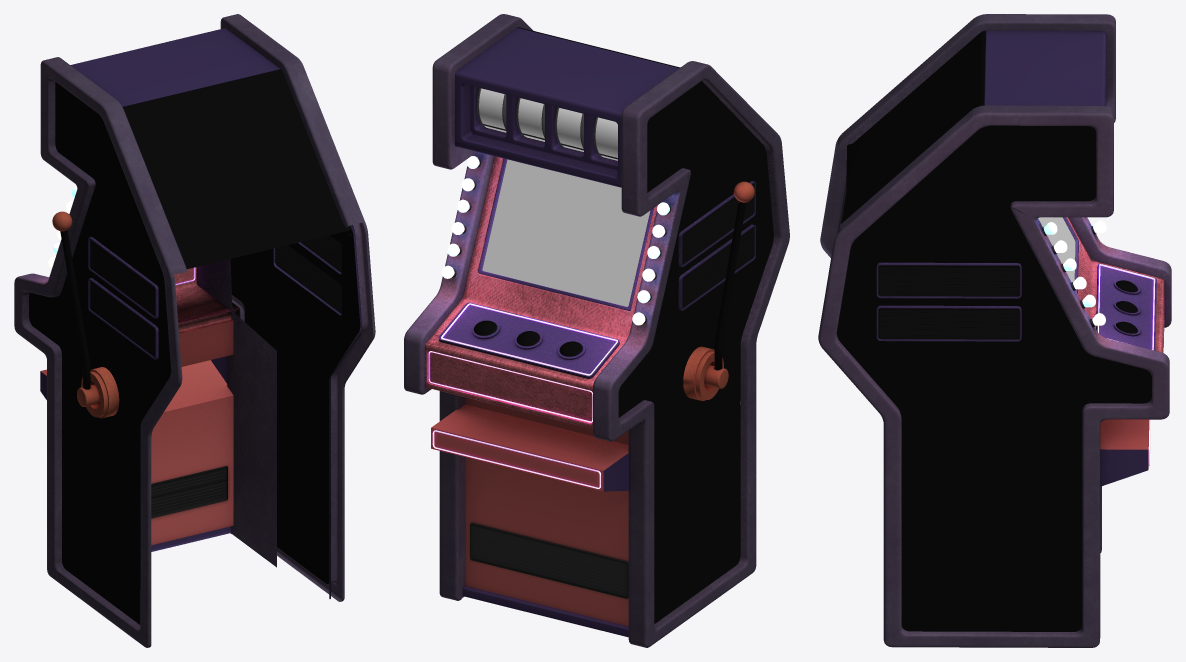
File: slotMachineHandleSeparated.glb
The picture shows the model from 3 angles, left to right: view 1: azimuth 30°, elevation 25°; view 2: azimuth 150°, elevation 25°; view 3: azimuth 270°, elevation 25°; orthographic projection. The views are drawn at different scales.
Visible parts, largest first — view 1: Sphere.001, Sphere.002; view 2: Sphere.001, Sphere.023, Sphere.002, Sphere.006, Sphere.014, Sphere.018, Sphere.015; view 3: Sphere.001, Sphere.023.
Boxes of the visible parts, x1,y1,x2,y2 form: Sphere.001: (14,14,375,647); Sphere.002: (52,211,90,389); Sphere.001: (404,14,789,647); Sphere.023: (482,159,650,306); Sphere.002: (714,181,754,370); Sphere.006: (477,88,506,132); Sphere.014: (554,107,583,151); Sphere.018: (516,97,544,141); Sphere.015: (593,117,617,160); Sphere.001: (818,14,1171,647); Sphere.023: (1038,217,1075,281).
Size of the model in its own units: 1.21 by 2.42 by 1.45.
4 materials, 1 textured.
